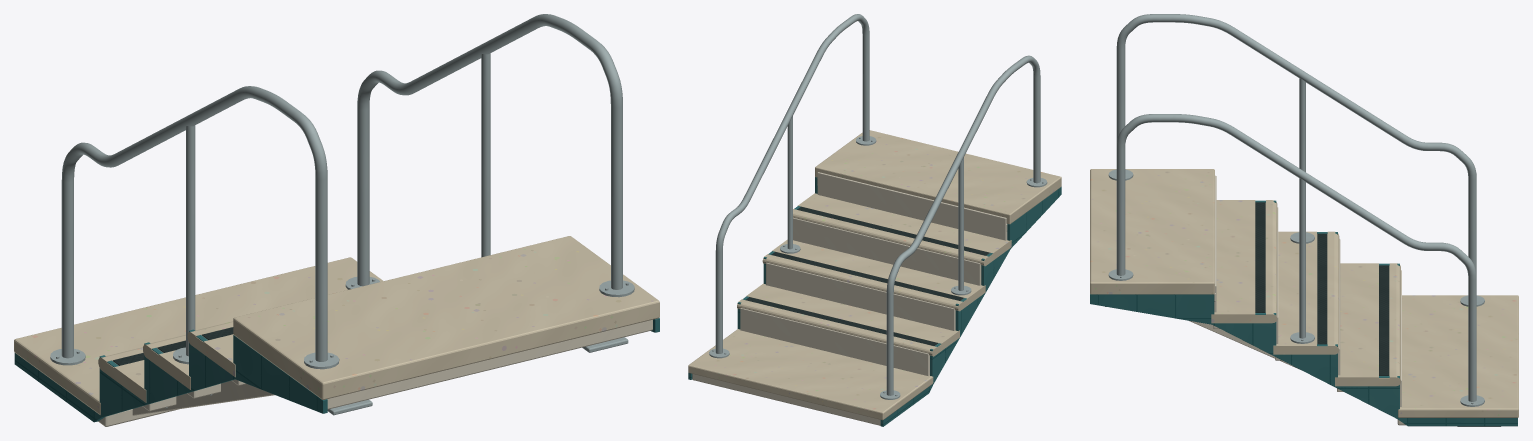
Rendered from AST-AQU-005.glb.
The picture shows the model from 3 angles, left to right: view 1: azimuth 30°, elevation 25°; view 2: azimuth 150°, elevation 25°; view 3: azimuth 270°, elevation 25°; orthographic projection. The views are drawn at different scales.
Parts seen in each view (by area): view 1: AST-AQU-005__warm_stone, AST-AQU-005__aquatic_satin_alloy, AST-AQU-005__aquatic_edge_tile, AST-AQU-005__ivory_enamel, AST-AQU-005__aquatic_dark_grip; view 2: AST-AQU-005__warm_stone, AST-AQU-005__ivory_enamel, AST-AQU-005__aquatic_satin_alloy, AST-AQU-005__aquatic_edge_tile, AST-AQU-005__aquatic_dark_grip; view 3: AST-AQU-005__warm_stone, AST-AQU-005__aquatic_satin_alloy, AST-AQU-005__aquatic_edge_tile, AST-AQU-005__aquatic_dark_grip, AST-AQU-005__ivory_enamel.
Boxes of the visible parts, left/top/right/bottom form: AST-AQU-005__warm_stone: left=14, top=236, right=659, bottom=414; AST-AQU-005__aquatic_satin_alloy: left=50, top=14, right=634, bottom=415; AST-AQU-005__aquatic_edge_tile: left=14, top=318, right=659, bottom=422; AST-AQU-005__ivory_enamel: left=98, top=319, right=652, bottom=426; AST-AQU-005__aquatic_dark_grip: left=113, top=327, right=233, bottom=365; AST-AQU-005__warm_stone: left=688, top=130, right=1061, bottom=420; AST-AQU-005__ivory_enamel: left=692, top=172, right=1007, bottom=425; AST-AQU-005__aquatic_satin_alloy: left=709, top=14, right=1047, bottom=399; AST-AQU-005__aquatic_edge_tile: left=688, top=177, right=1061, bottom=426; AST-AQU-005__aquatic_dark_grip: left=745, top=206, right=989, bottom=345; AST-AQU-005__warm_stone: left=1090, top=169, right=1518, bottom=417; AST-AQU-005__aquatic_satin_alloy: left=1105, top=14, right=1500, bottom=426; AST-AQU-005__aquatic_edge_tile: left=1090, top=200, right=1517, bottom=426; AST-AQU-005__aquatic_dark_grip: left=1255, top=202, right=1389, bottom=375; AST-AQU-005__ivory_enamel: left=1189, top=175, right=1405, bottom=425.
Size of the model in its own units: 1.4 by 1.78 by 2.22.
Materials: 5 (5 with a texture image).
